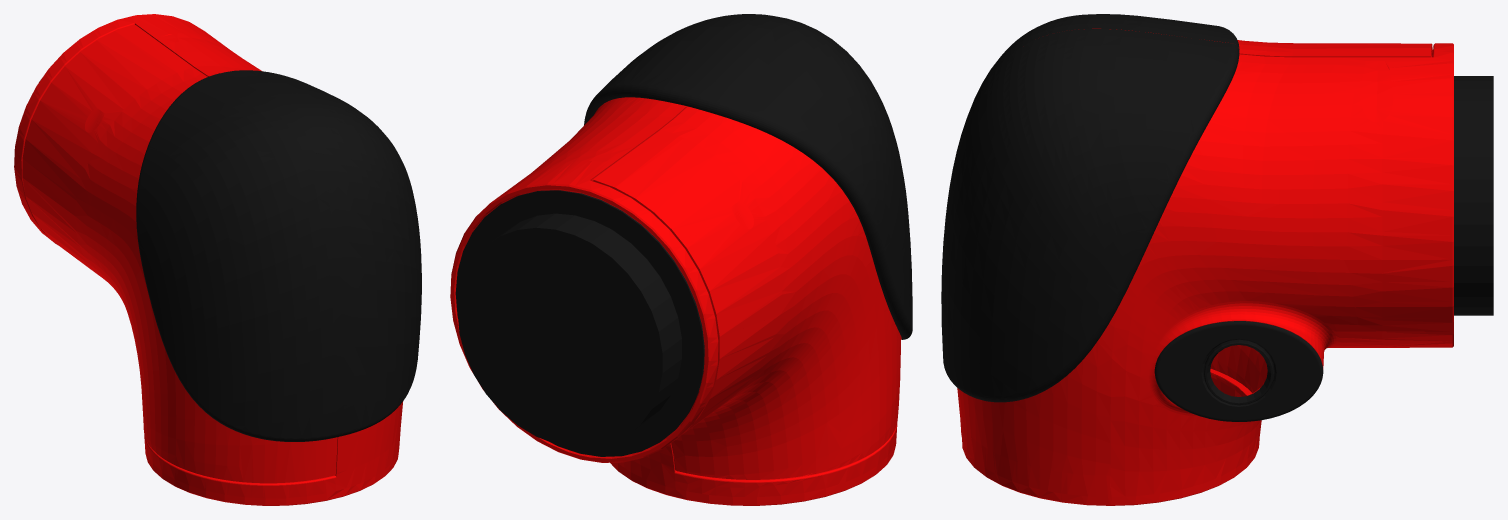
File: right_l5_visuals_mesh_0.obj
3 views of the same model, side by side, from view 1: azimuth 30°, elevation 25°; view 2: azimuth 150°, elevation 25°; view 3: azimuth 270°, elevation 25° (orthographic). The views are drawn at different scales.
Bounding box in the file's own units: 0.0956 × 0.1278 × 0.154.
